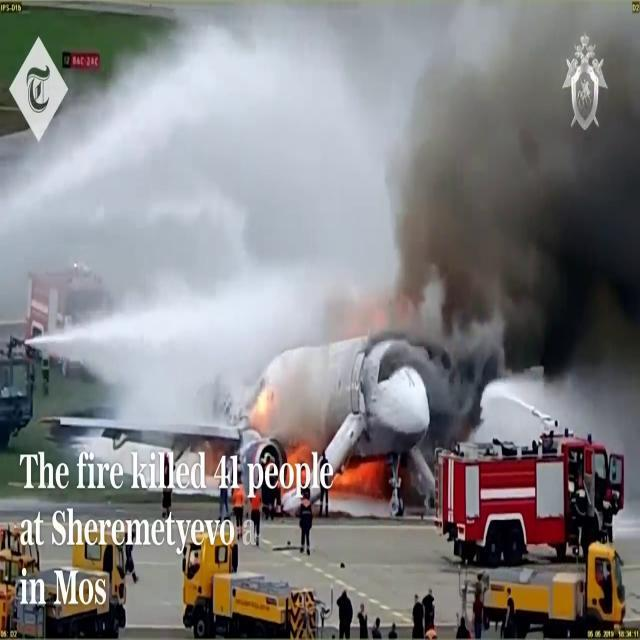Fire: (332, 454, 387, 496)
Smoke: (360, 1, 640, 396)
